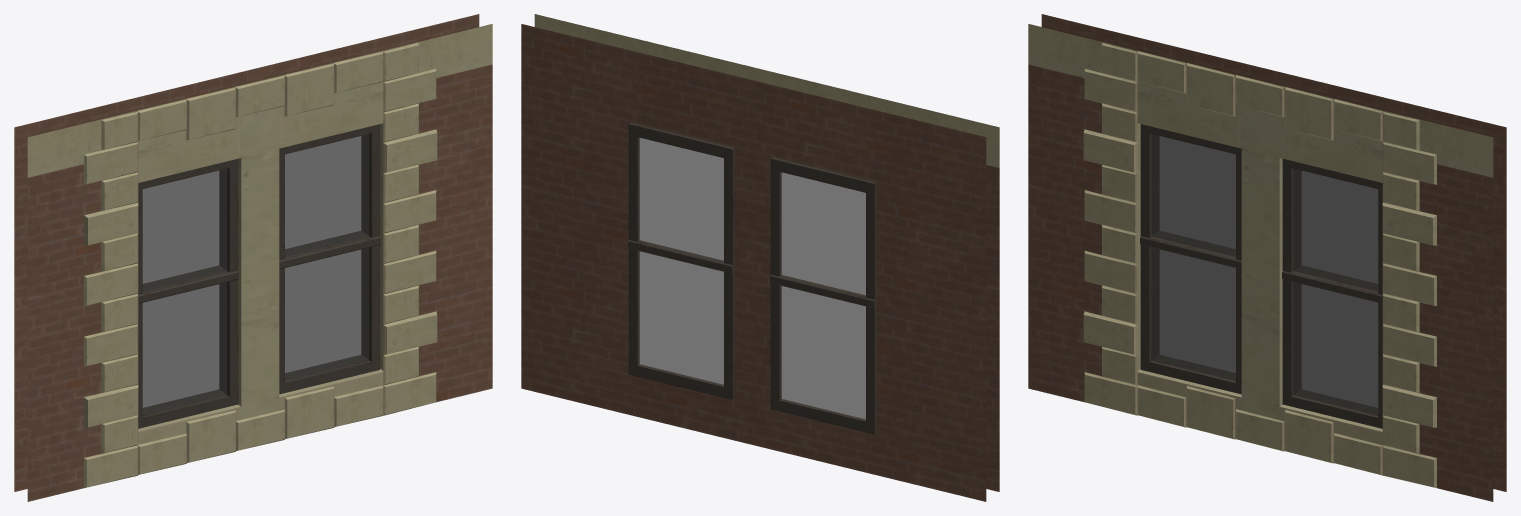
The model's file is Brick_RedWhite_DoubleWindow.glb.
The picture shows the model from 3 angles, left to right: view 1: azimuth 30°, elevation 25°; view 2: azimuth 150°, elevation 25°; view 3: azimuth 330°, elevation 25°; orthographic projection.
Visible parts, largest first — view 1: Brick_RedWhite_DoubleWindow; view 2: Brick_RedWhite_DoubleWindow; view 3: Brick_RedWhite_DoubleWindow.
Part boxes in pixels (box(x1,y1,x2,y2)): Brick_RedWhite_DoubleWindow: box(14, 14, 492, 501); Brick_RedWhite_DoubleWindow: box(521, 14, 999, 501); Brick_RedWhite_DoubleWindow: box(1028, 14, 1506, 501).
Size of the model in its own units: 4 by 3 by 0.2774.
Materials: 5 (3 with a texture image).
